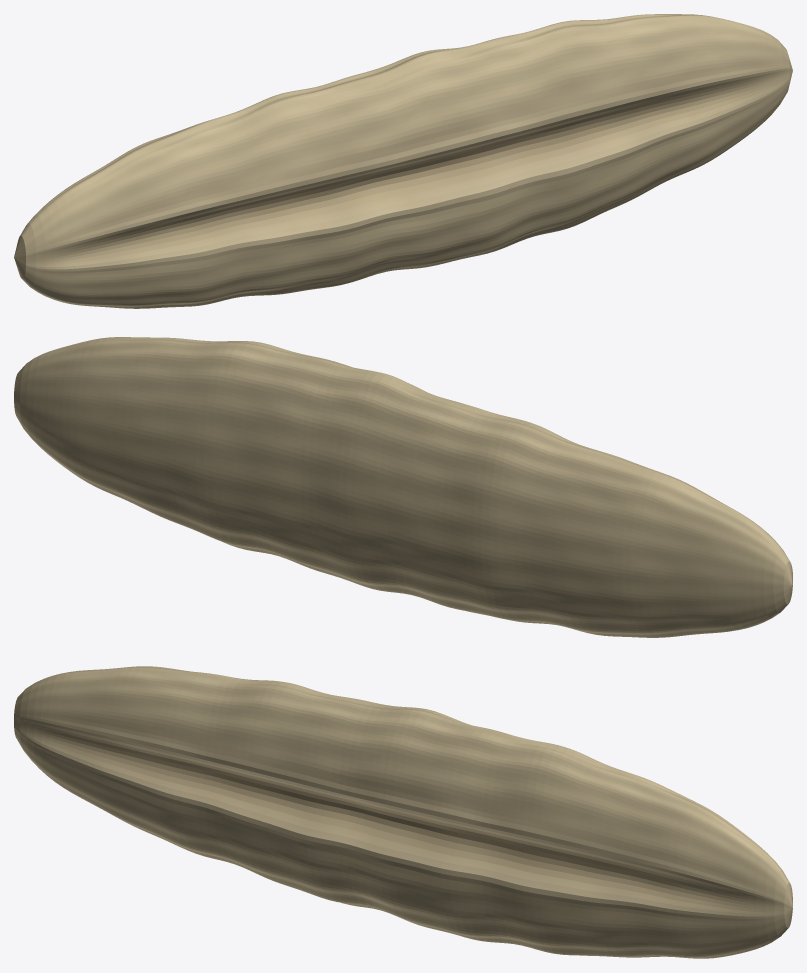
Rendered from single_edible_oat.glb.
3 renders of one model, top to bottom at view 1: azimuth 30°, elevation 25°; view 2: azimuth 150°, elevation 25°; view 3: azimuth 330°, elevation 25°, orthographic.
Visible parts, largest first — view 1: single_edible_oat_body; view 2: single_edible_oat_body; view 3: single_edible_oat_body.
Boxes of the visible parts, left/top/right/bottom form: single_edible_oat_body: left=14, top=14, right=792, bottom=308; single_edible_oat_body: left=14, top=337, right=792, bottom=637; single_edible_oat_body: left=14, top=666, right=792, bottom=958.
Bounding box in the file's own units: 3.8 × 0.9925 × 0.3981.
